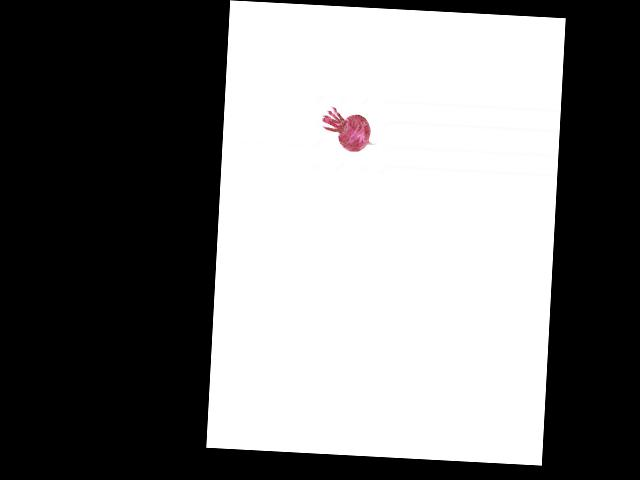beet: (320, 106, 378, 153)
